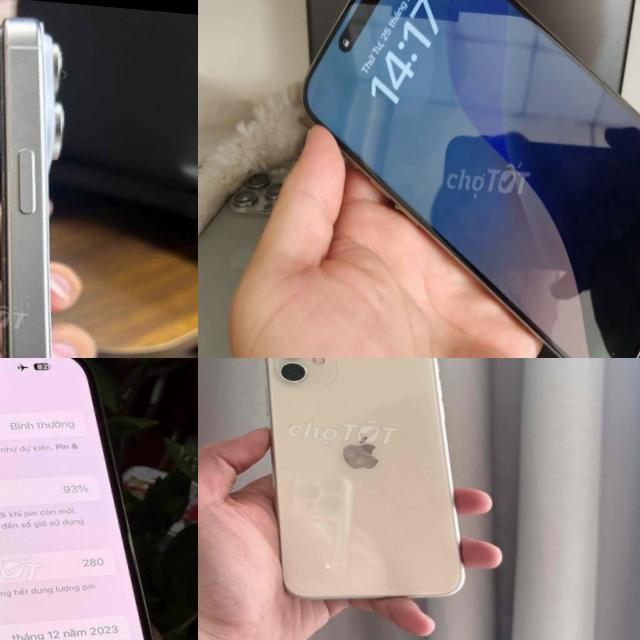gen_11: (240, 358, 492, 619)
gen_15: (270, 0, 640, 358), (0, 358, 198, 640)
gen_16: (0, 18, 63, 358)
physical_damage: (383, 194, 426, 241), (572, 349, 593, 358)
scratch: (10, 284, 48, 342), (18, 170, 46, 222), (635, 157, 640, 184), (609, 347, 615, 358)
